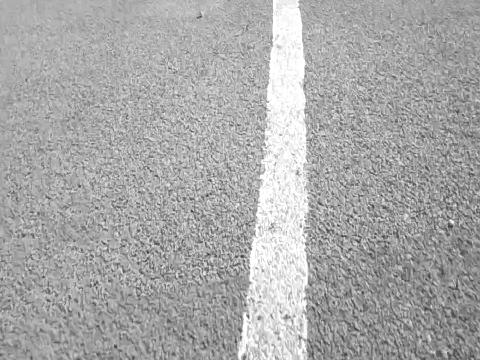Lines: (235, 0, 308, 360)
